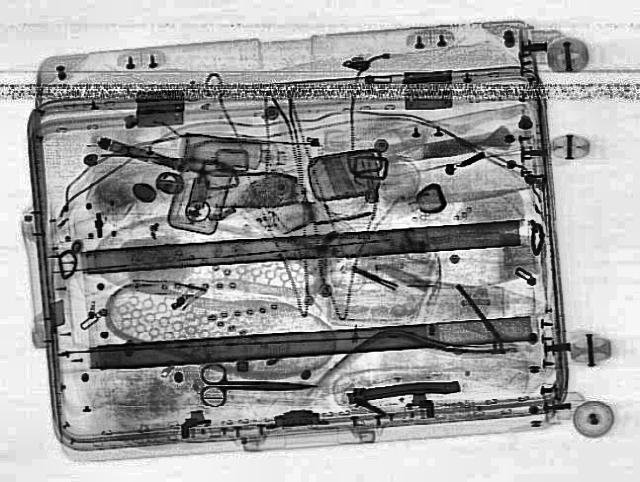Scissors: (195, 361, 319, 409)
